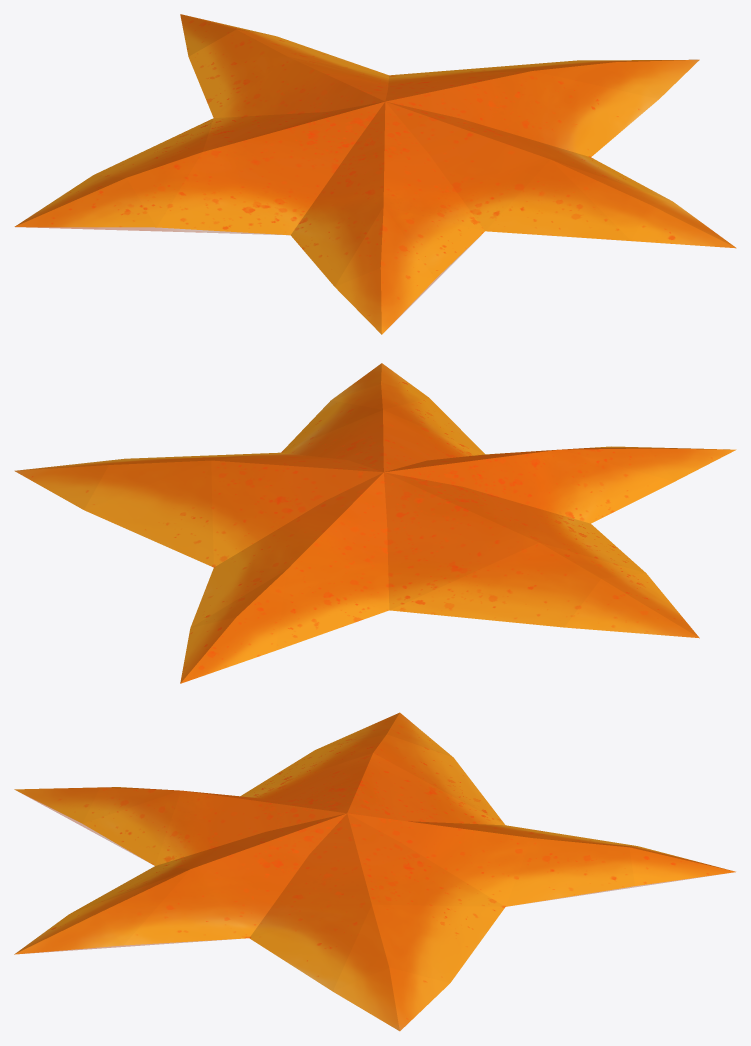
Rendered from starfish.glb.
The picture shows the model from 3 angles, top to bottom: view 1: azimuth 30°, elevation 25°; view 2: azimuth 150°, elevation 25°; view 3: azimuth 270°, elevation 25°; orthographic projection. The views are drawn at different scales.
Parts seen in each view (by area): view 1: StarFish; view 2: StarFish; view 3: StarFish.
Part boxes in pixels (bbox=[...]): StarFish: bbox=[14, 14, 736, 334]; StarFish: bbox=[14, 363, 736, 683]; StarFish: bbox=[14, 712, 735, 1031].
Bounding box in the file's own units: 3.71 × 0.3197 × 3.55.
1 material, 1 textured.
